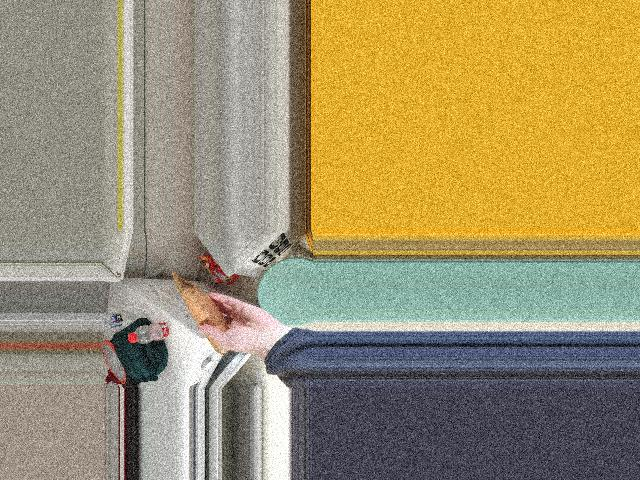sweet_potato: (192, 299, 237, 351)
